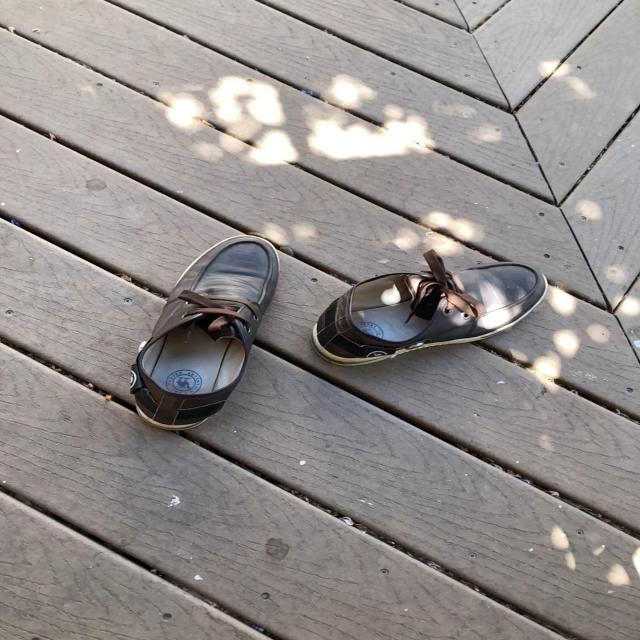shoe: (130, 236, 279, 432), (312, 251, 548, 367)
